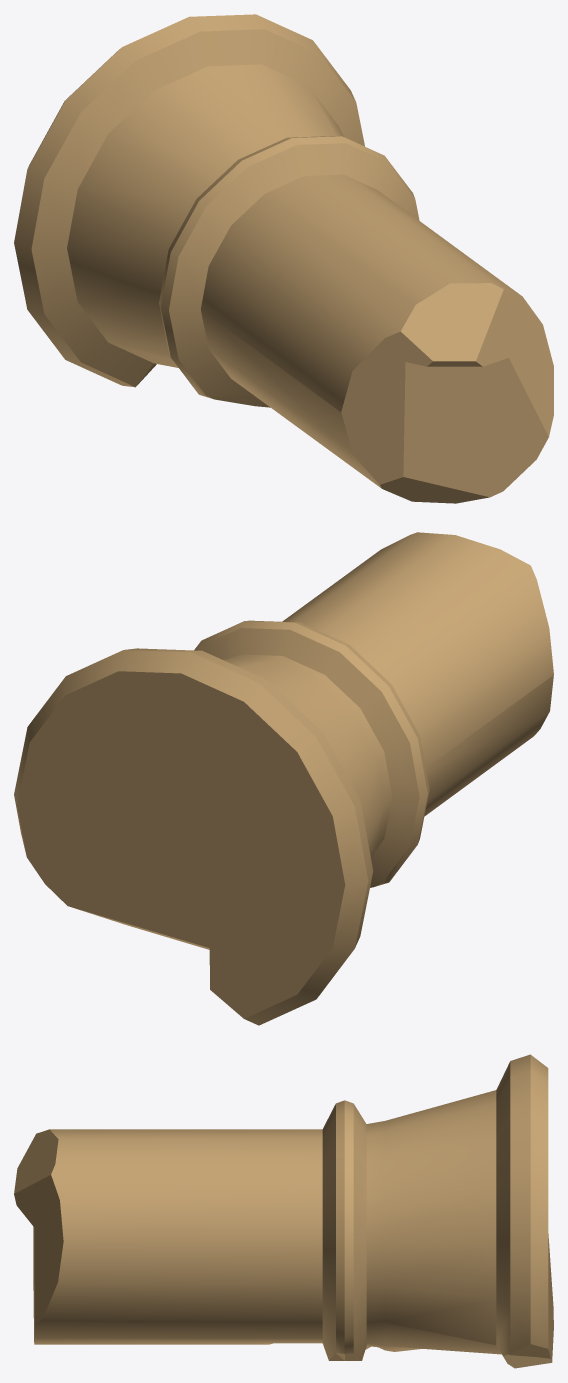
The model's file is BrokenRuin_pillarTop_02.fbx.
3 renders of one model, top to bottom at view 1: azimuth 30°, elevation 25°; view 2: azimuth 150°, elevation 25°; view 3: azimuth 270°, elevation 25°, orthographic. The views are drawn at different scales.
Visible parts, largest first — view 1: Cylinder.006; view 2: Cylinder.006; view 3: Cylinder.006.
Boxes of the visible parts, box(x1,y1,x2,y2) form: Cylinder.006: box(14, 14, 553, 503); Cylinder.006: box(14, 532, 553, 1025); Cylinder.006: box(14, 1054, 553, 1368).
Size of the model in its own units: 210 by 202 by 310.
